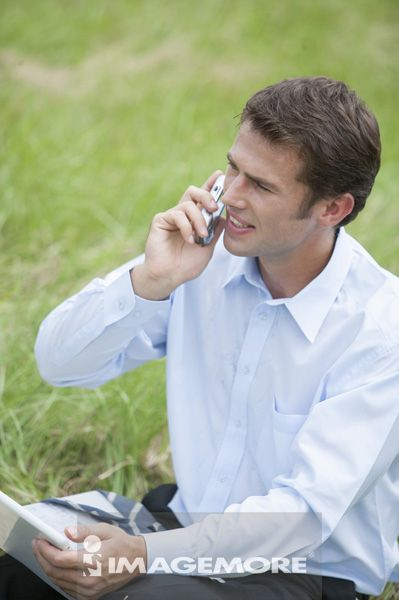talk: (139, 140, 293, 298)
